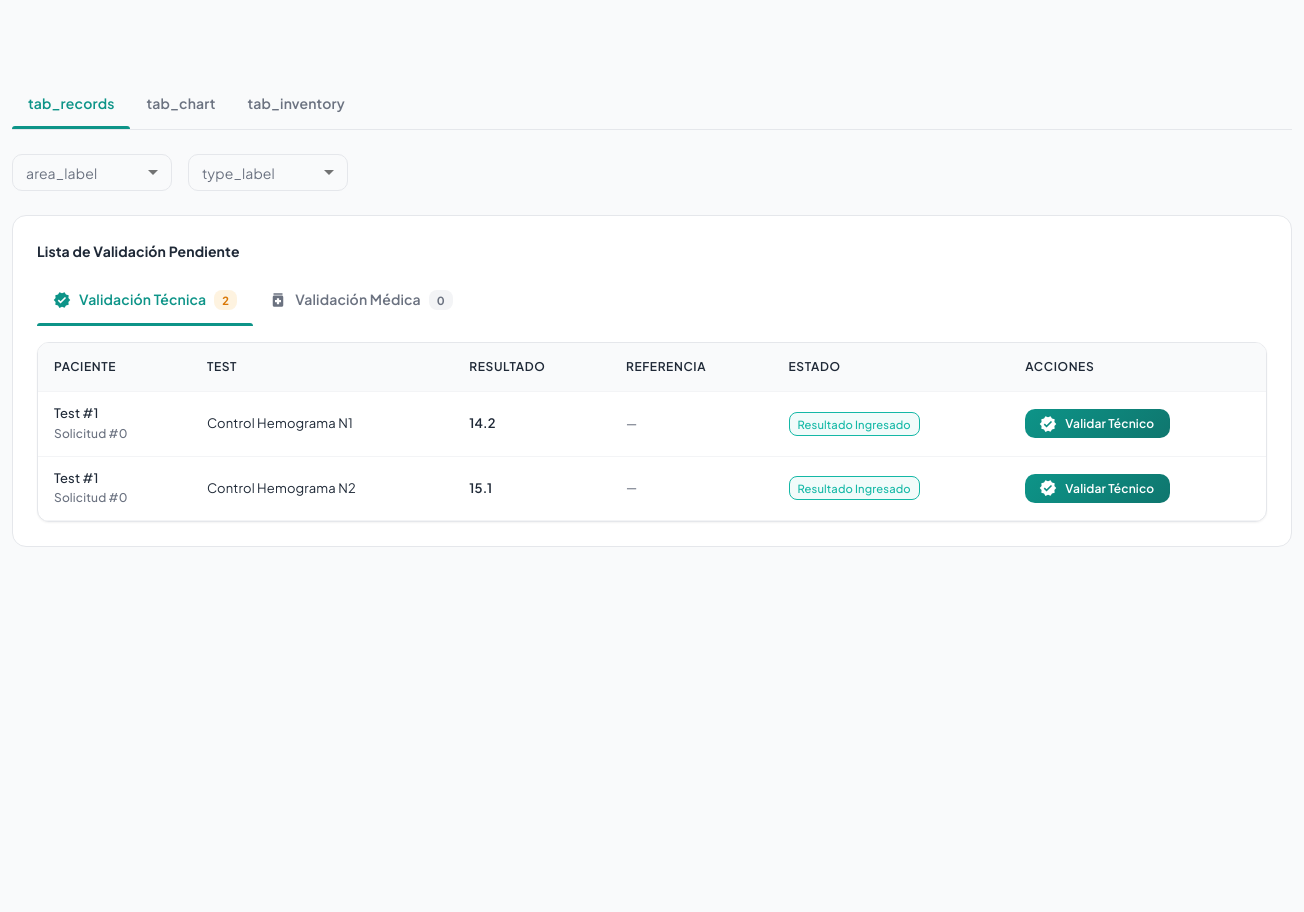
Test: LabQualityControlPage › switches to the inventory tab showing equipment and reagents
Click the tab "tab_inventory": (296, 104) [232,82,361,126]
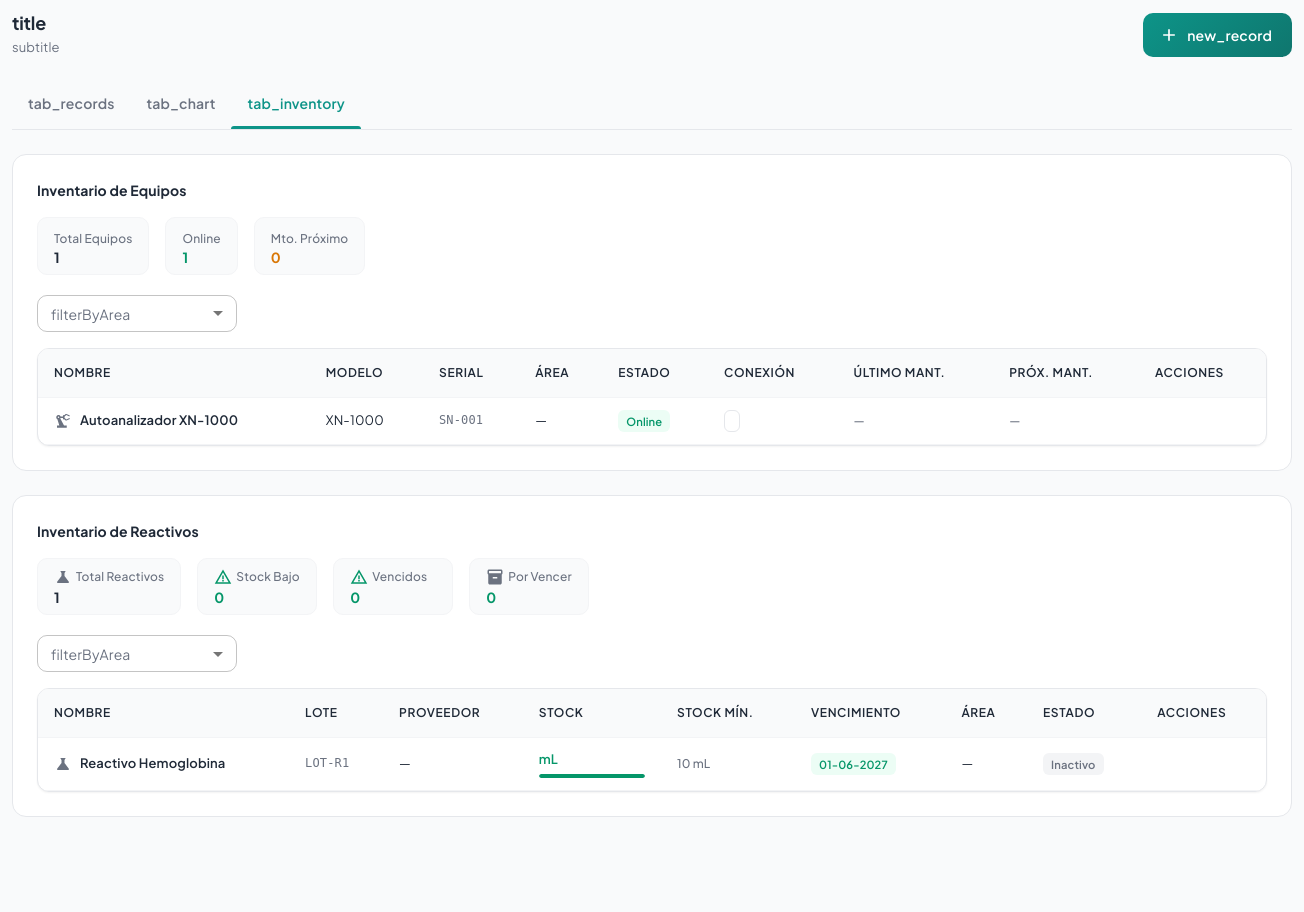
Result: the text "Autoanalizador XN-1000" is shown at [80,411,238,431]
Result: the text "Reactivo Hemoglobina" is shown at [80,754,225,774]
